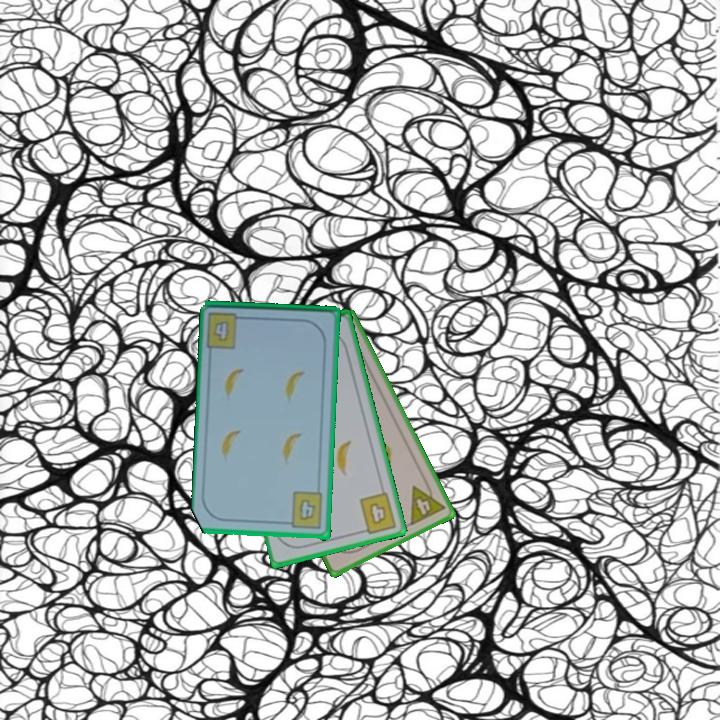4b: (356, 489, 400, 537), (204, 308, 249, 351), (282, 489, 325, 532)
4p: (406, 476, 448, 528)
